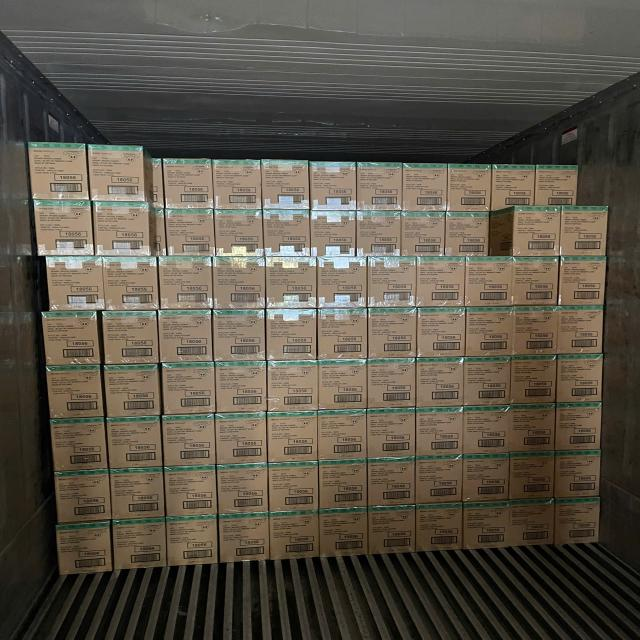Carton: (26, 142, 90, 200), (33, 201, 95, 258), (91, 204, 156, 258), (88, 144, 145, 200), (44, 314, 103, 368), (46, 258, 105, 311), (104, 314, 162, 367), (102, 258, 159, 311), (106, 364, 164, 416), (48, 366, 106, 418), (52, 419, 110, 471), (57, 526, 113, 578), (502, 211, 563, 258), (161, 258, 216, 310), (164, 415, 219, 467), (265, 255, 317, 310), (158, 314, 212, 366), (56, 474, 113, 523), (214, 258, 267, 310), (163, 363, 217, 414), (108, 417, 163, 467), (266, 311, 318, 363), (216, 415, 269, 466), (365, 257, 415, 310), (318, 257, 368, 310), (213, 311, 267, 360), (113, 524, 168, 572), (216, 362, 268, 412), (167, 470, 220, 519), (266, 414, 317, 464), (111, 472, 165, 519), (319, 311, 369, 361), (217, 467, 270, 514), (164, 161, 214, 210), (270, 465, 320, 514), (267, 363, 318, 411), (165, 519, 218, 564), (416, 260, 465, 308), (319, 411, 368, 459), (415, 360, 464, 408), (365, 410, 413, 459), (321, 359, 370, 407), (416, 409, 465, 457), (561, 208, 609, 257), (467, 260, 516, 308), (367, 310, 417, 357), (217, 518, 268, 564), (268, 514, 320, 559), (215, 162, 263, 210), (320, 462, 368, 510), (262, 162, 310, 210), (416, 310, 465, 357), (216, 212, 265, 259), (558, 310, 605, 359), (366, 461, 416, 507), (555, 358, 603, 405), (560, 260, 607, 308), (512, 259, 560, 306), (368, 362, 417, 408), (166, 212, 215, 258), (466, 310, 515, 356), (367, 508, 416, 554), (320, 510, 369, 556), (310, 163, 356, 212), (415, 459, 463, 505), (511, 358, 557, 406), (509, 407, 556, 453), (556, 406, 602, 453), (463, 458, 511, 503), (464, 361, 513, 405), (510, 454, 556, 500), (508, 503, 555, 548), (515, 311, 560, 358), (264, 214, 312, 258), (358, 166, 403, 212), (464, 409, 512, 452), (414, 507, 462, 550), (554, 456, 600, 500), (554, 502, 600, 546), (310, 213, 356, 257), (403, 169, 447, 215), (492, 163, 534, 211), (448, 167, 492, 212), (464, 506, 511, 548), (401, 214, 445, 257), (445, 216, 490, 258), (358, 216, 402, 258), (536, 163, 578, 207)
